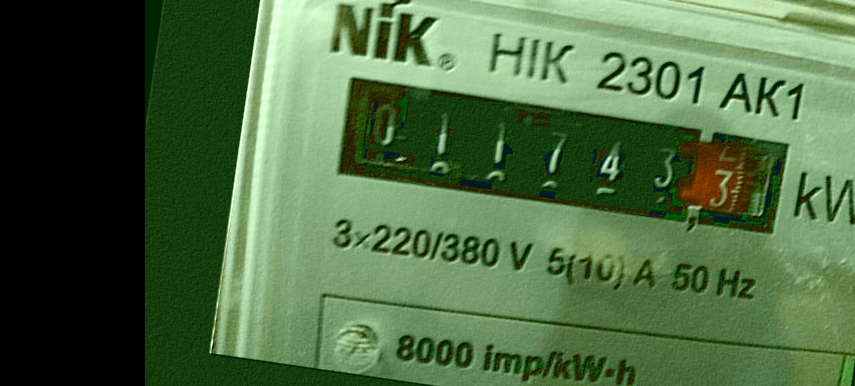0: (368, 99, 404, 149)
1: (487, 117, 514, 167), (432, 109, 456, 159)
3: (649, 142, 683, 193), (707, 165, 737, 212)
4: (595, 133, 630, 185)
7: (542, 127, 572, 178)
screen: (321, 65, 799, 248)
